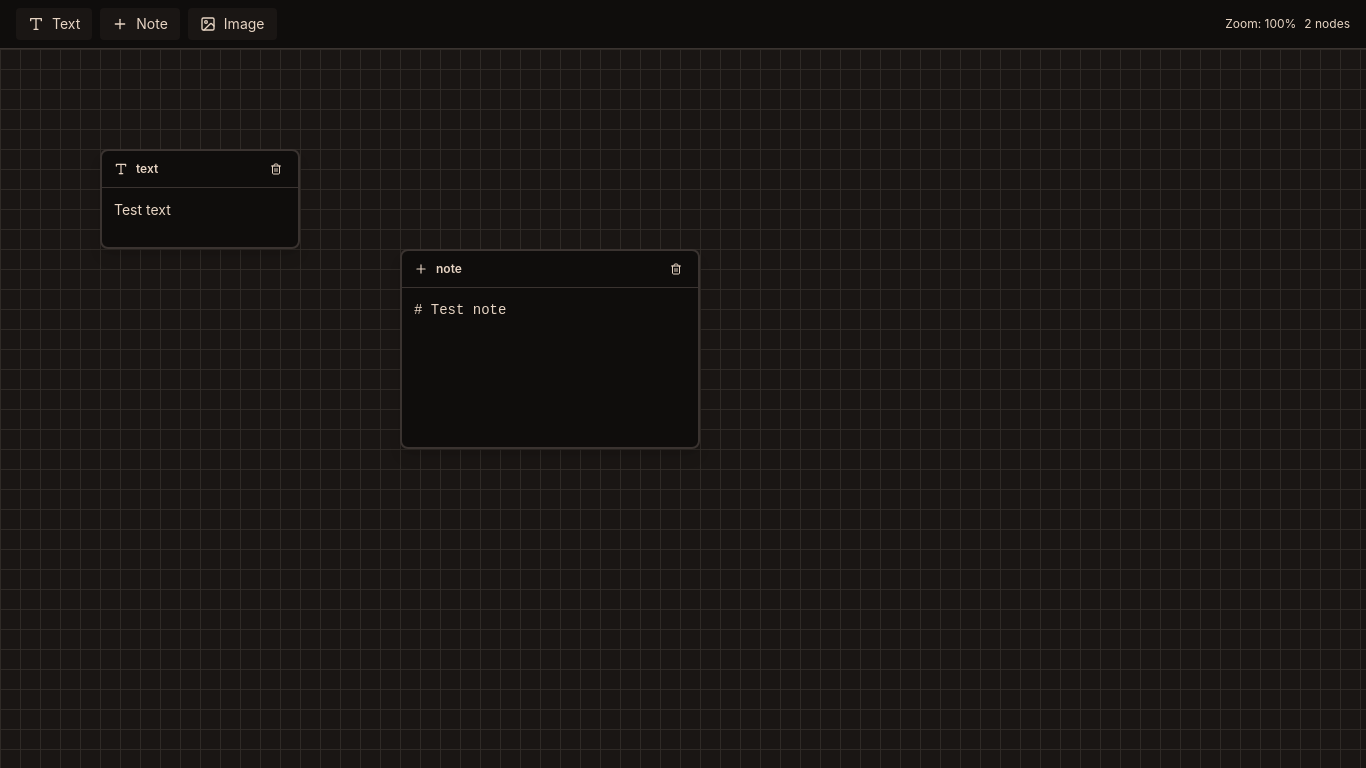
Test: CanvasView › should add image node when Image button is clicked
This screenshot has width=1366, height=768.
What coordinates should you click on to do the following:
click the button "Image"
I would click on:
 (232, 24)
Its box is [188,8,276,40].
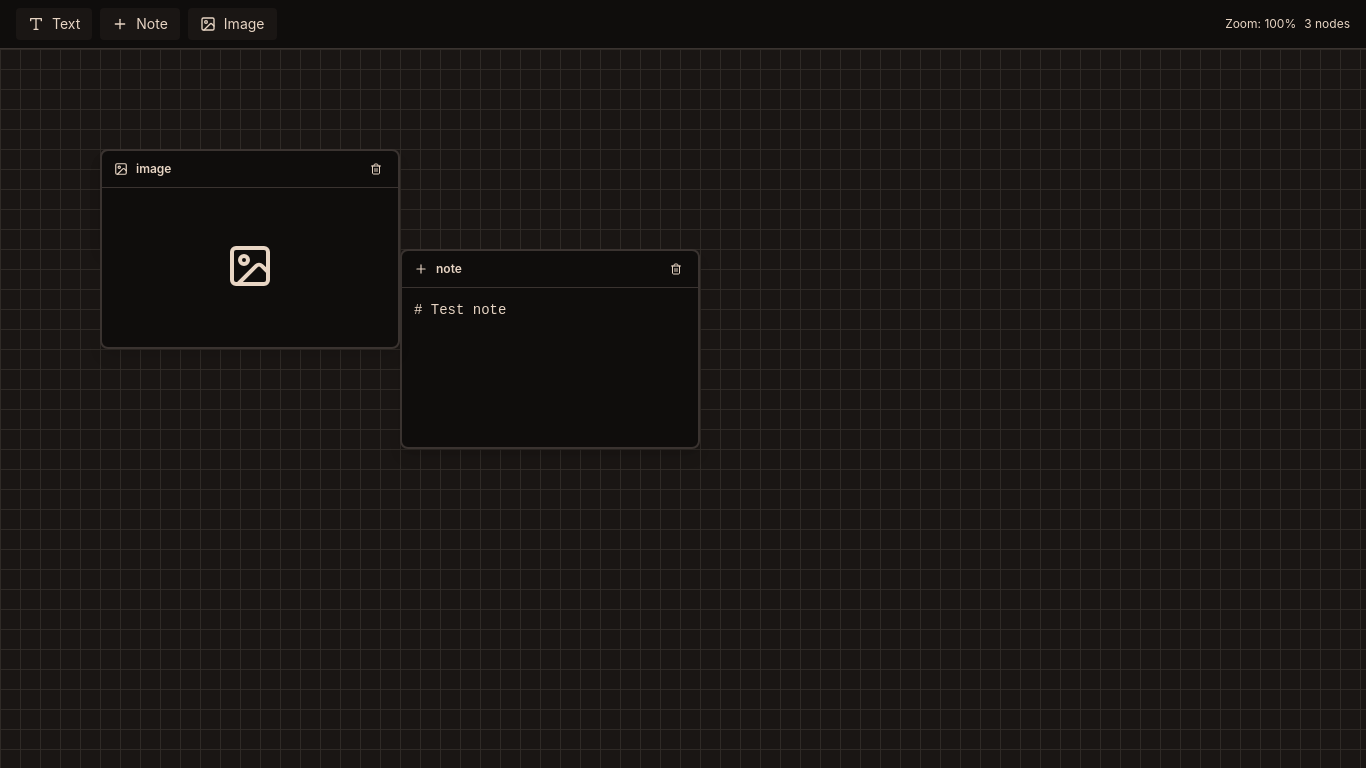
Now the text "image" is shown, box [136,161,171,177]
